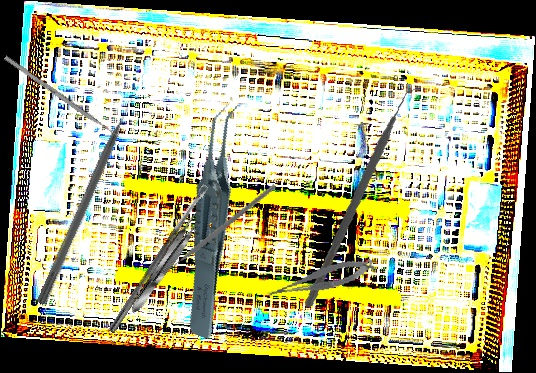Chopper: (281, 86, 451, 308), (156, 156, 278, 297)
Micro Scissor: (262, 255, 378, 302)
Pusher: (35, 92, 141, 307), (3, 55, 125, 142)
Surgical Spoon: (108, 183, 210, 335)
Tissue Forceps: (142, 98, 290, 341), (125, 208, 207, 317)
